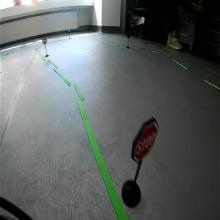stop: (132, 117, 159, 163)
